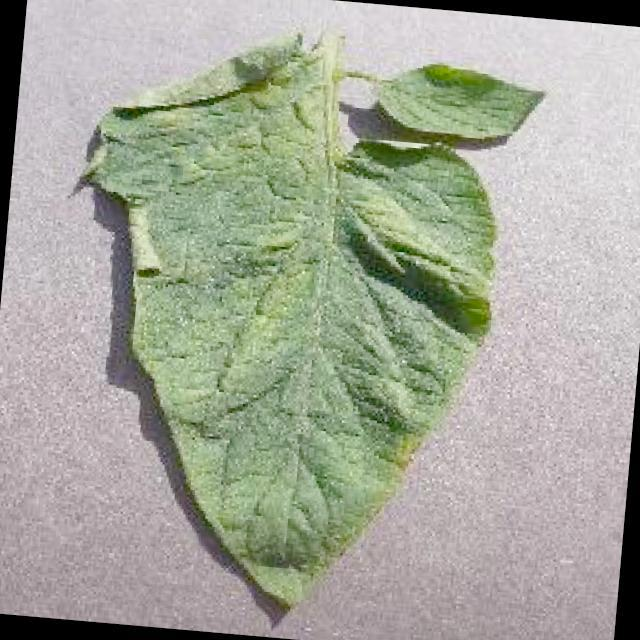Tomato spider mites leaf: (48, 12, 514, 624)
